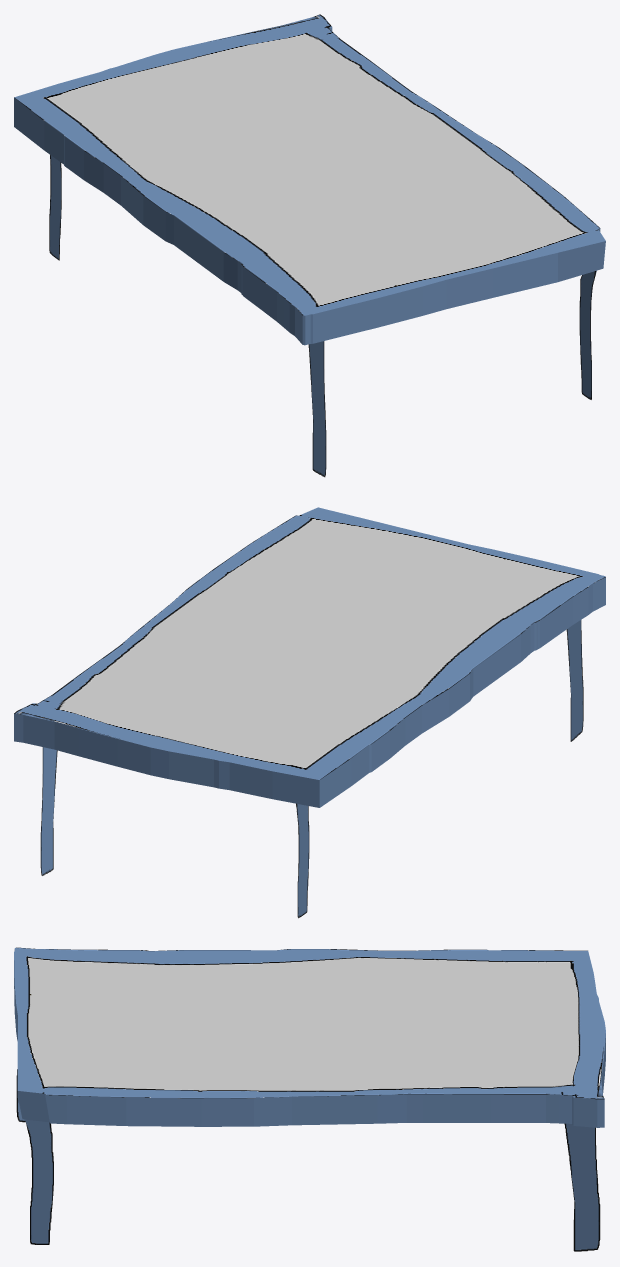
File: ComputerDesk.fbx
3 renders of one model, top to bottom at view 1: azimuth 30°, elevation 25°; view 2: azimuth 150°, elevation 25°; view 3: azimuth 270°, elevation 25°, orthographic. The views are drawn at different scales.
Visible parts, largest first — view 1: Cube.002; view 2: Cube.002; view 3: Cube.002.
Part boxes in pixels (left/top/right/bottom): Cube.002: left=14, top=14, right=605, bottom=477; Cube.002: left=14, top=507, right=605, bottom=918; Cube.002: left=14, top=947, right=605, bottom=1251.
Size of the model in its own units: 82.91 by 42.16 by 137.
